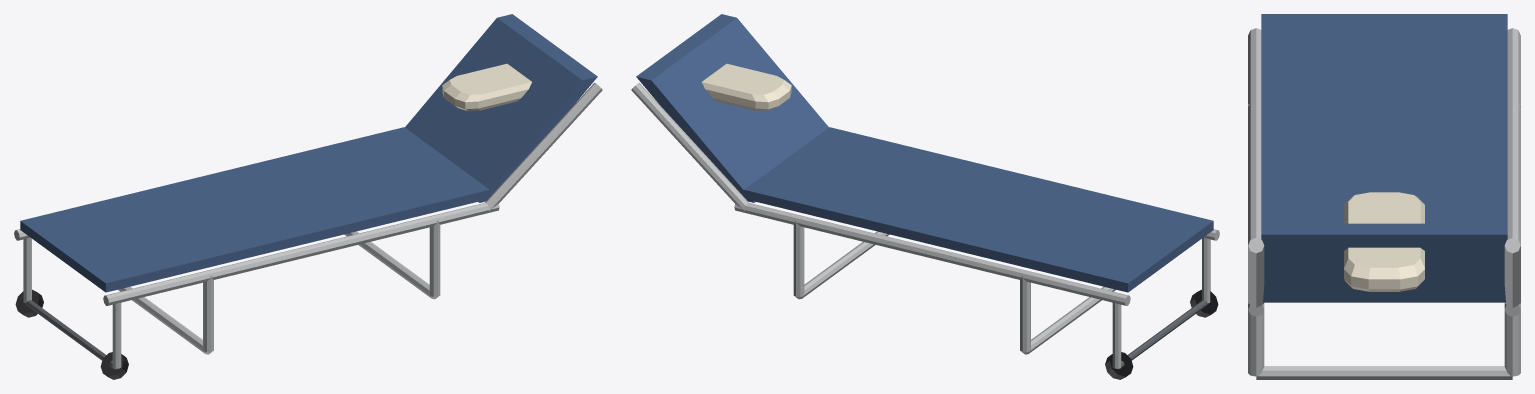
File: FN_Lounger_Sun.glb
The picture shows the model from 3 angles, left to right: view 1: azimuth 30°, elevation 25°; view 2: azimuth 150°, elevation 25°; view 3: azimuth 270°, elevation 25°; orthographic projection. The views are drawn at different scales.
Visible parts, largest first — view 1: FN_Lounger_Sun; view 2: FN_Lounger_Sun; view 3: FN_Lounger_Sun.
Boxes of the visible parts, box(x1,y1,x2,y2) form: FN_Lounger_Sun: box(14, 14, 602, 379); FN_Lounger_Sun: box(631, 14, 1219, 379); FN_Lounger_Sun: box(1248, 14, 1520, 379).
Size of the model in its own units: 1.98 by 0.6797 by 0.638.
1 material, 1 textured.
